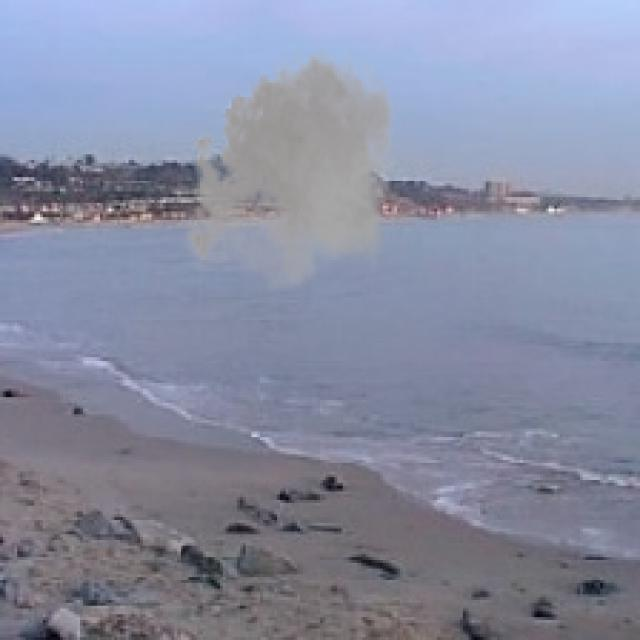Smoke: (180, 40, 403, 303)
